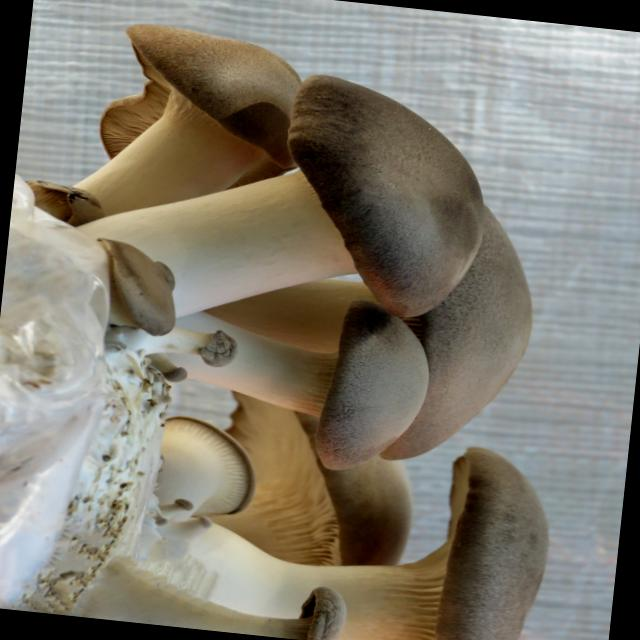Pleurotus eryngii: (11, 12, 601, 640)
